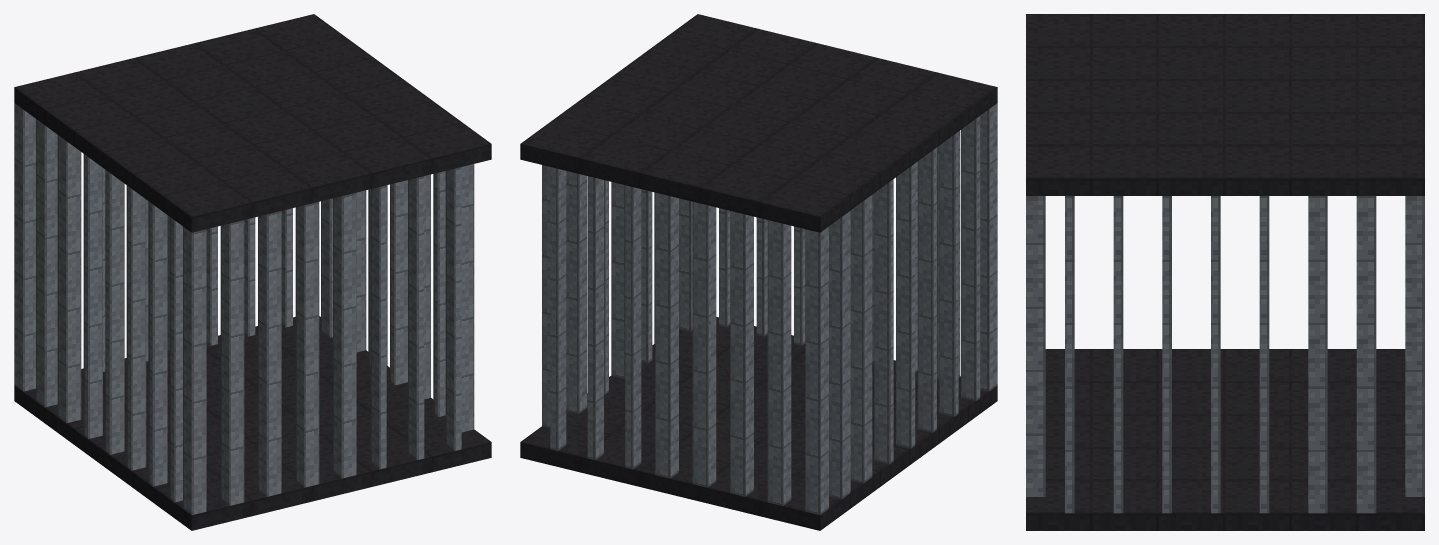
The model's file is dungeonCage.glb.
The picture shows the model from 3 angles, left to right: view 1: azimuth 30°, elevation 25°; view 2: azimuth 150°, elevation 25°; view 3: azimuth 270°, elevation 25°; orthographic projection. The views are drawn at different scales.
Parts seen in each view (by area): view 1: dungeonCage_0; view 2: dungeonCage_0; view 3: dungeonCage_0.
Part boxes in pixels (x1,y1,x2,y2): dungeonCage_0: (14, 14, 491, 530); dungeonCage_0: (520, 14, 997, 530); dungeonCage_0: (1026, 14, 1424, 530).
Bounding box in the file's own units: 2.5 × 2.5 × 2.56.
1 material, 1 textured.
